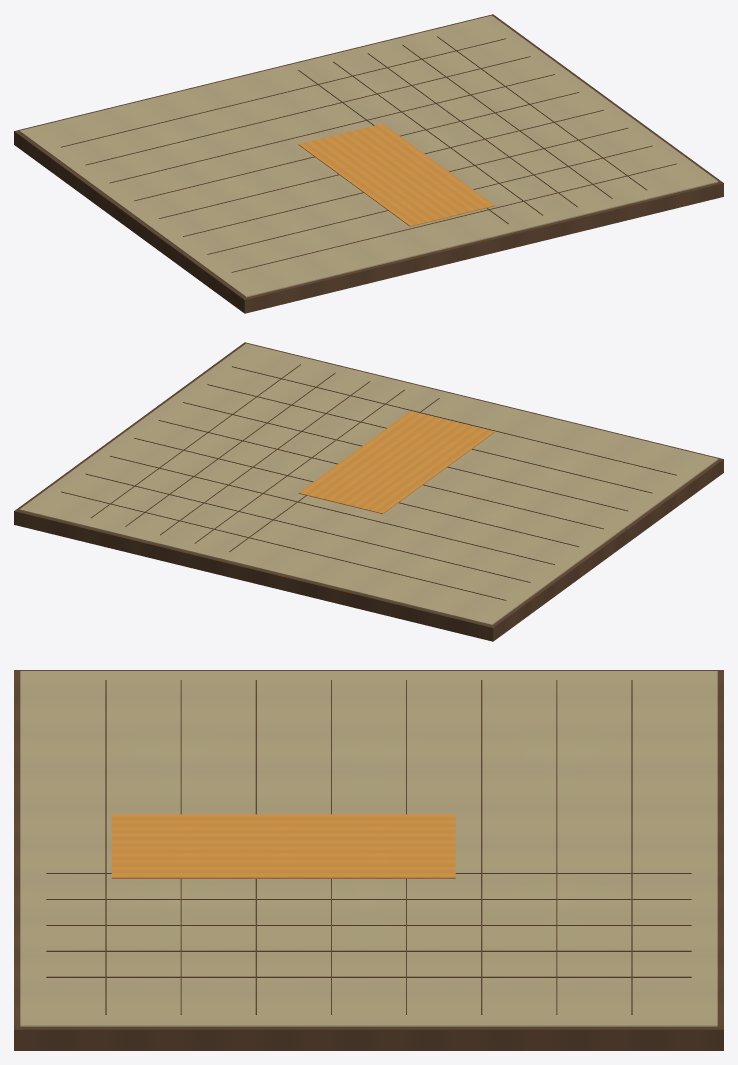
Rendered from atlas100-s016-a07.lod2.glb.
3 views of the same model, one above another, from view 1: azimuth 30°, elevation 25°; view 2: azimuth 150°, elevation 25°; view 3: azimuth 270°, elevation 25° (orthographic). The views are drawn at different scales.
Visible parts, largest first — view 1: atlas100-s016-a07:part-001, atlas100-s016-a07:part-000, atlas100-s016-a07:part-021, atlas100-s016-a07:part-020, atlas100-s016-a07:part-014, atlas100-s016-a07:part-013, atlas100-s016-a07:part-015, atlas100-s016-a07:part-016, atlas100-s016-a07:part-018, atlas100-s016-a07:part-019, atlas100-s016-a07:part-017; view 2: atlas100-s016-a07:part-001, atlas100-s016-a07:part-000, atlas100-s016-a07:part-021, atlas100-s016-a07:part-013, atlas100-s016-a07:part-014, atlas100-s016-a07:part-015, atlas100-s016-a07:part-020, atlas100-s016-a07:part-017, atlas100-s016-a07:part-019, atlas100-s016-a07:part-018, atlas100-s016-a07:part-016; view 3: atlas100-s016-a07:part-001, atlas100-s016-a07:part-000, atlas100-s016-a07:part-021, atlas100-s016-a07:part-011, atlas100-s016-a07:part-012, atlas100-s016-a07:part-013, atlas100-s016-a07:part-014, atlas100-s016-a07:part-015, atlas100-s016-a07:part-020, atlas100-s016-a07:part-010, atlas100-s016-a07:part-009.
Boxes of the visible parts, bbox=[...] form: atlas100-s016-a07:part-001: bbox=[19, 15, 718, 297]; atlas100-s016-a07:part-000: bbox=[14, 14, 723, 313]; atlas100-s016-a07:part-021: bbox=[298, 123, 494, 226]; atlas100-s016-a07:part-020: bbox=[231, 163, 676, 272]; atlas100-s016-a07:part-014: bbox=[85, 56, 530, 165]; atlas100-s016-a07:part-013: bbox=[61, 38, 505, 147]; atlas100-s016-a07:part-015: bbox=[110, 74, 554, 183]; atlas100-s016-a07:part-016: bbox=[134, 92, 579, 201]; atlas100-s016-a07:part-018: bbox=[183, 127, 627, 236]; atlas100-s016-a07:part-019: bbox=[207, 145, 652, 254]; atlas100-s016-a07:part-017: bbox=[158, 110, 603, 218]; atlas100-s016-a07:part-001: bbox=[19, 343, 718, 625]; atlas100-s016-a07:part-000: bbox=[14, 342, 723, 641]; atlas100-s016-a07:part-021: bbox=[298, 411, 494, 513]; atlas100-s016-a07:part-013: bbox=[61, 491, 506, 600]; atlas100-s016-a07:part-014: bbox=[85, 473, 530, 582]; atlas100-s016-a07:part-015: bbox=[110, 455, 554, 564]; atlas100-s016-a07:part-020: bbox=[232, 366, 676, 475]; atlas100-s016-a07:part-017: bbox=[158, 420, 603, 529]; atlas100-s016-a07:part-019: bbox=[207, 384, 652, 493]; atlas100-s016-a07:part-018: bbox=[183, 402, 627, 511]; atlas100-s016-a07:part-016: bbox=[134, 438, 579, 546]; atlas100-s016-a07:part-001: bbox=[20, 671, 717, 1026]; atlas100-s016-a07:part-000: bbox=[14, 670, 723, 1050]; atlas100-s016-a07:part-021: bbox=[111, 814, 455, 878]; atlas100-s016-a07:part-011: bbox=[46, 950, 691, 951]; atlas100-s016-a07:part-012: bbox=[46, 976, 691, 977]; atlas100-s016-a07:part-013: bbox=[631, 680, 632, 1014]; atlas100-s016-a07:part-014: bbox=[556, 680, 557, 1014]; atlas100-s016-a07:part-015: bbox=[481, 680, 482, 1014]; atlas100-s016-a07:part-020: bbox=[105, 680, 106, 1014]; atlas100-s016-a07:part-010: bbox=[46, 925, 691, 925]; atlas100-s016-a07:part-009: bbox=[46, 899, 691, 899].
Bounding box in the file's own units: 12.46 × 0.404 × 10.4.
3 materials, 3 textured.
